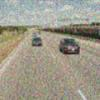cars: (57, 38, 84, 54), (32, 36, 43, 46)
